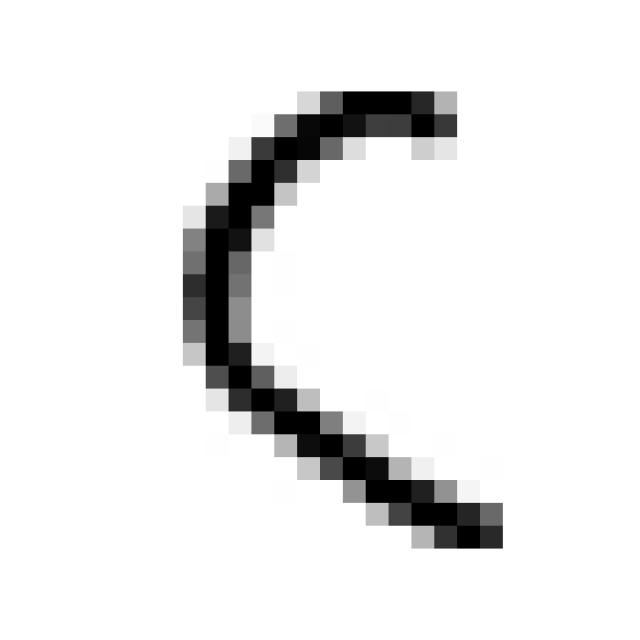2 -two-: (164, 69, 524, 571)
